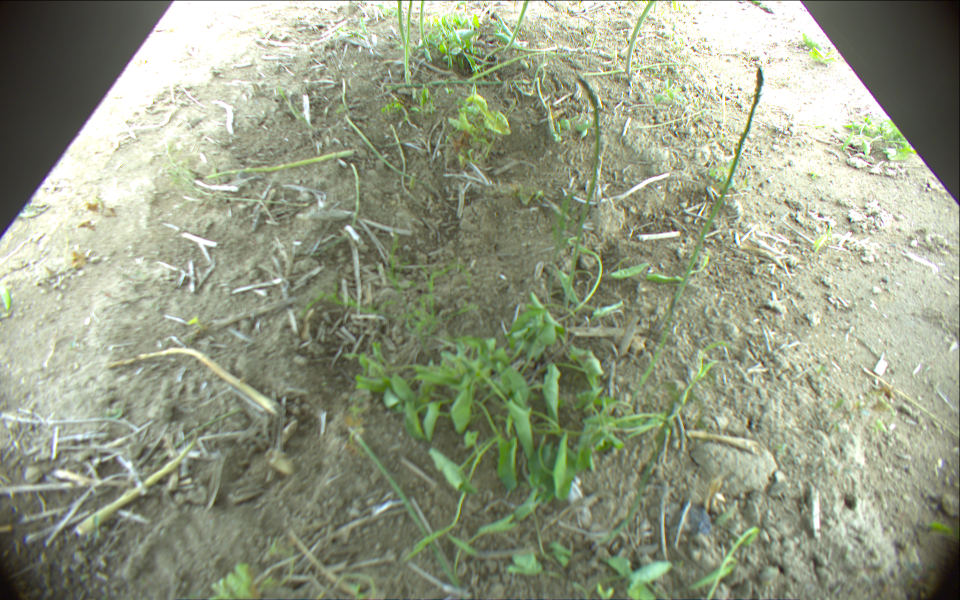aspa: (650, 68, 763, 337), (74, 439, 196, 535), (104, 348, 273, 413), (562, 77, 601, 330), (344, 114, 425, 182), (197, 150, 354, 180), (586, 62, 712, 93), (371, 80, 529, 100), (389, 122, 423, 208), (467, 51, 567, 80), (625, 1, 659, 78), (482, 44, 558, 63), (503, 1, 528, 56), (396, 1, 411, 56), (405, 1, 415, 83), (349, 164, 358, 232), (418, 1, 426, 48)
